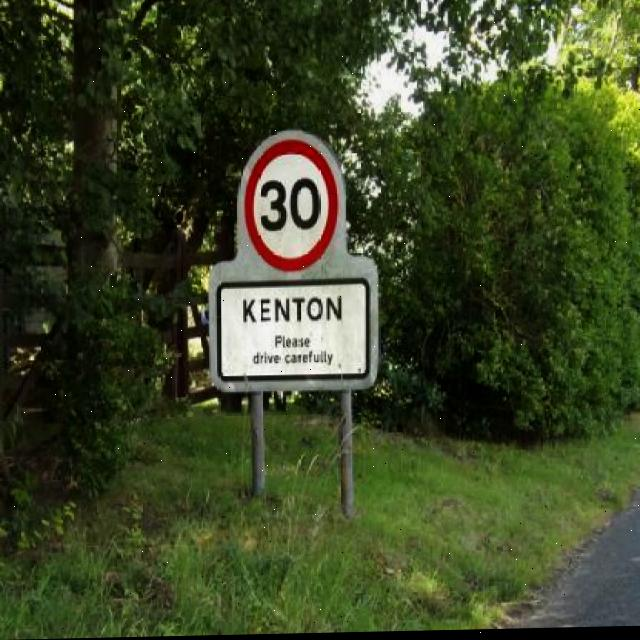Speed limit 30: (237, 127, 348, 275)
